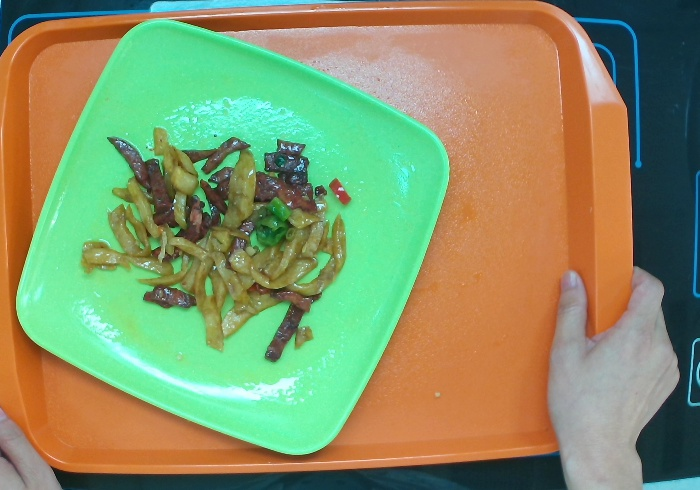ZNLD-Lv_Fang_Pan: (1, 1, 449, 457)
